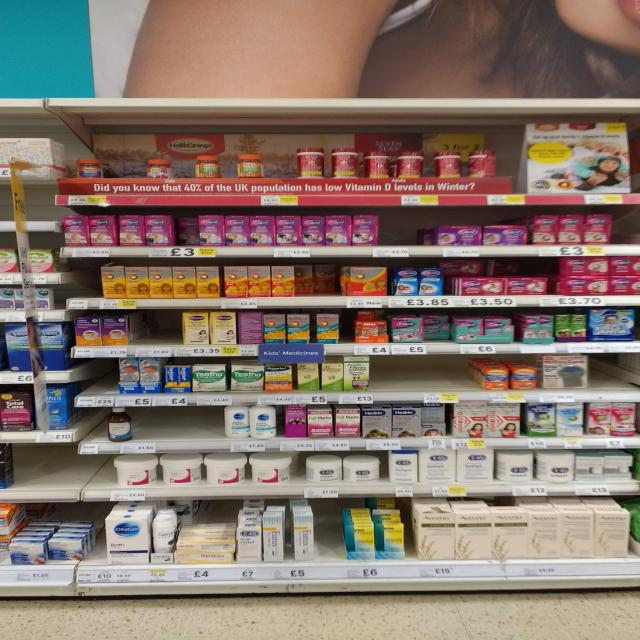empty: (371, 355, 470, 390), (134, 408, 223, 438), (16, 445, 76, 488), (590, 354, 636, 389), (316, 503, 344, 558), (382, 212, 425, 247), (137, 312, 183, 342), (75, 455, 112, 487), (74, 264, 99, 299), (103, 159, 146, 179), (614, 212, 639, 242), (266, 153, 296, 177), (173, 158, 195, 179)
